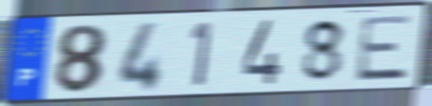1: (188, 20, 214, 89)
4: (116, 19, 165, 94), (241, 17, 283, 87)
8: (51, 22, 109, 95), (299, 17, 347, 84)
E: (353, 13, 416, 84)
